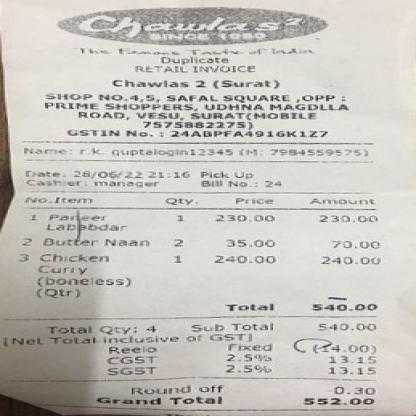receipts: (3, 4, 404, 411)
